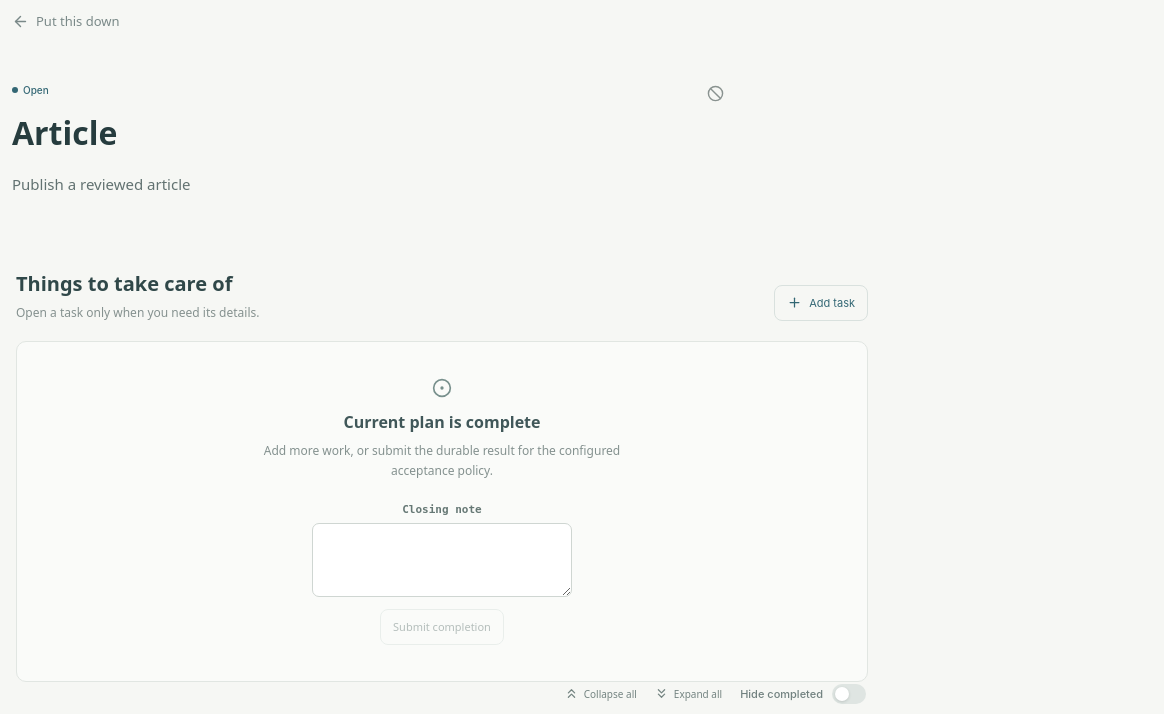
it: WorkItem lifecycle actions › submits a converged Blackboard result and preserves it when submission fails
The image size is (1164, 714).
Type "The article is ready for publication." into the text box labelled "Closing note" at (442, 560), box 312,522 -> 572,597
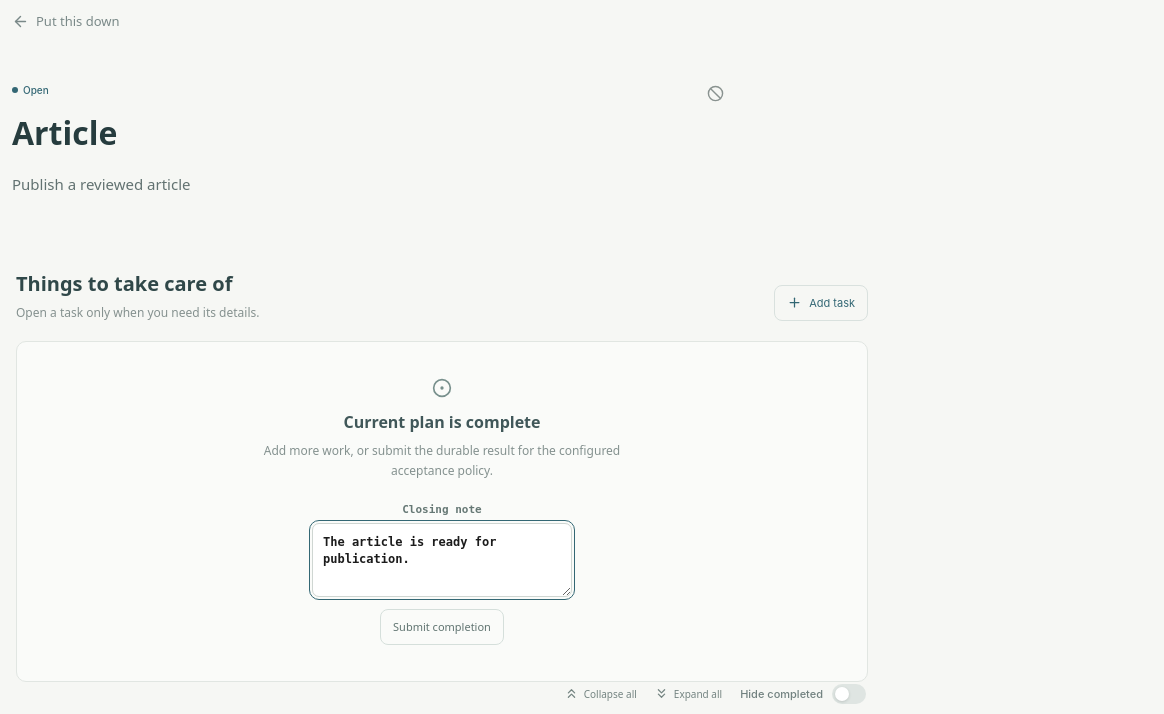
Click the button "Submit completion" at (442, 627), box 380,609 -> 504,645
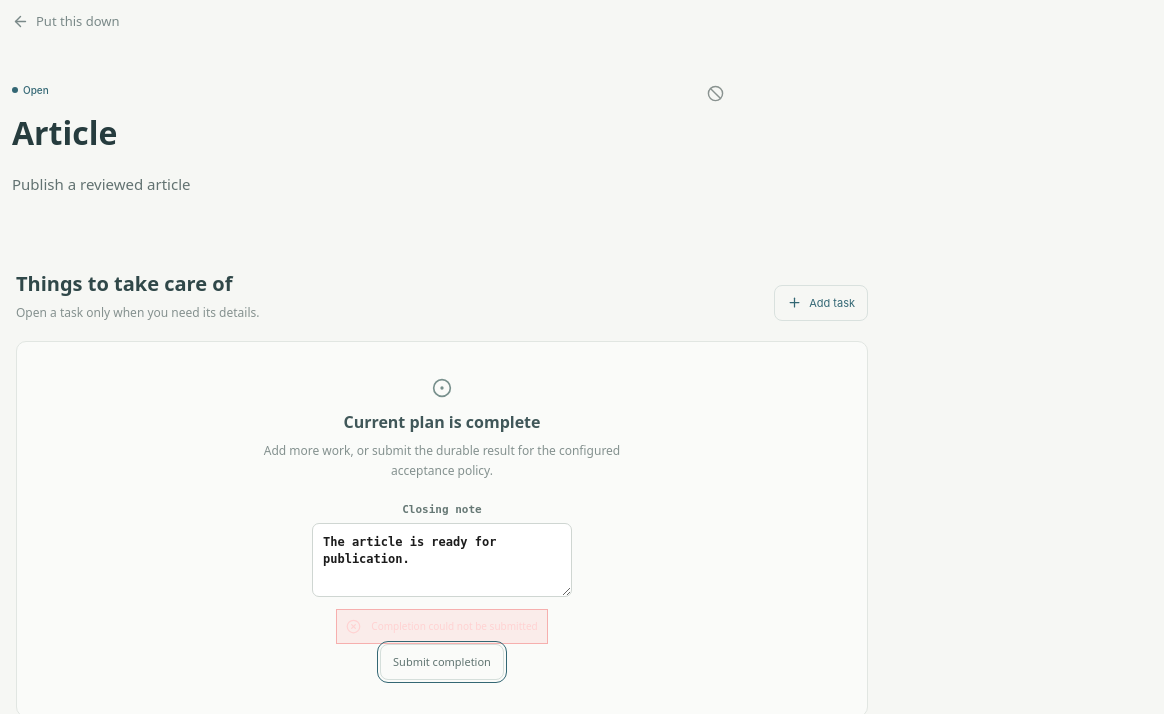
Result: the text "Completion could not be submitted" is shown at 336,609 -> 548,644
